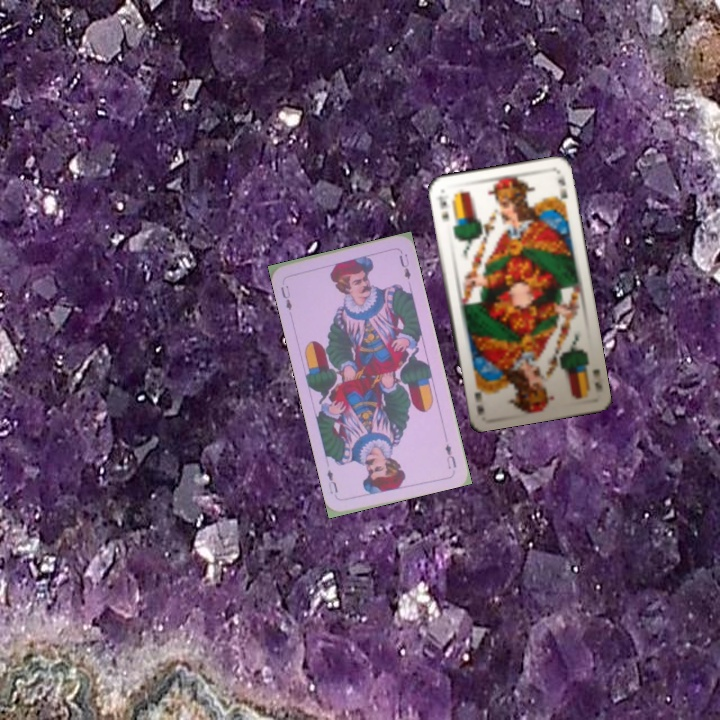EK: (434, 194, 451, 224), (588, 365, 605, 395)
EU: (277, 281, 295, 313), (441, 440, 459, 471)
